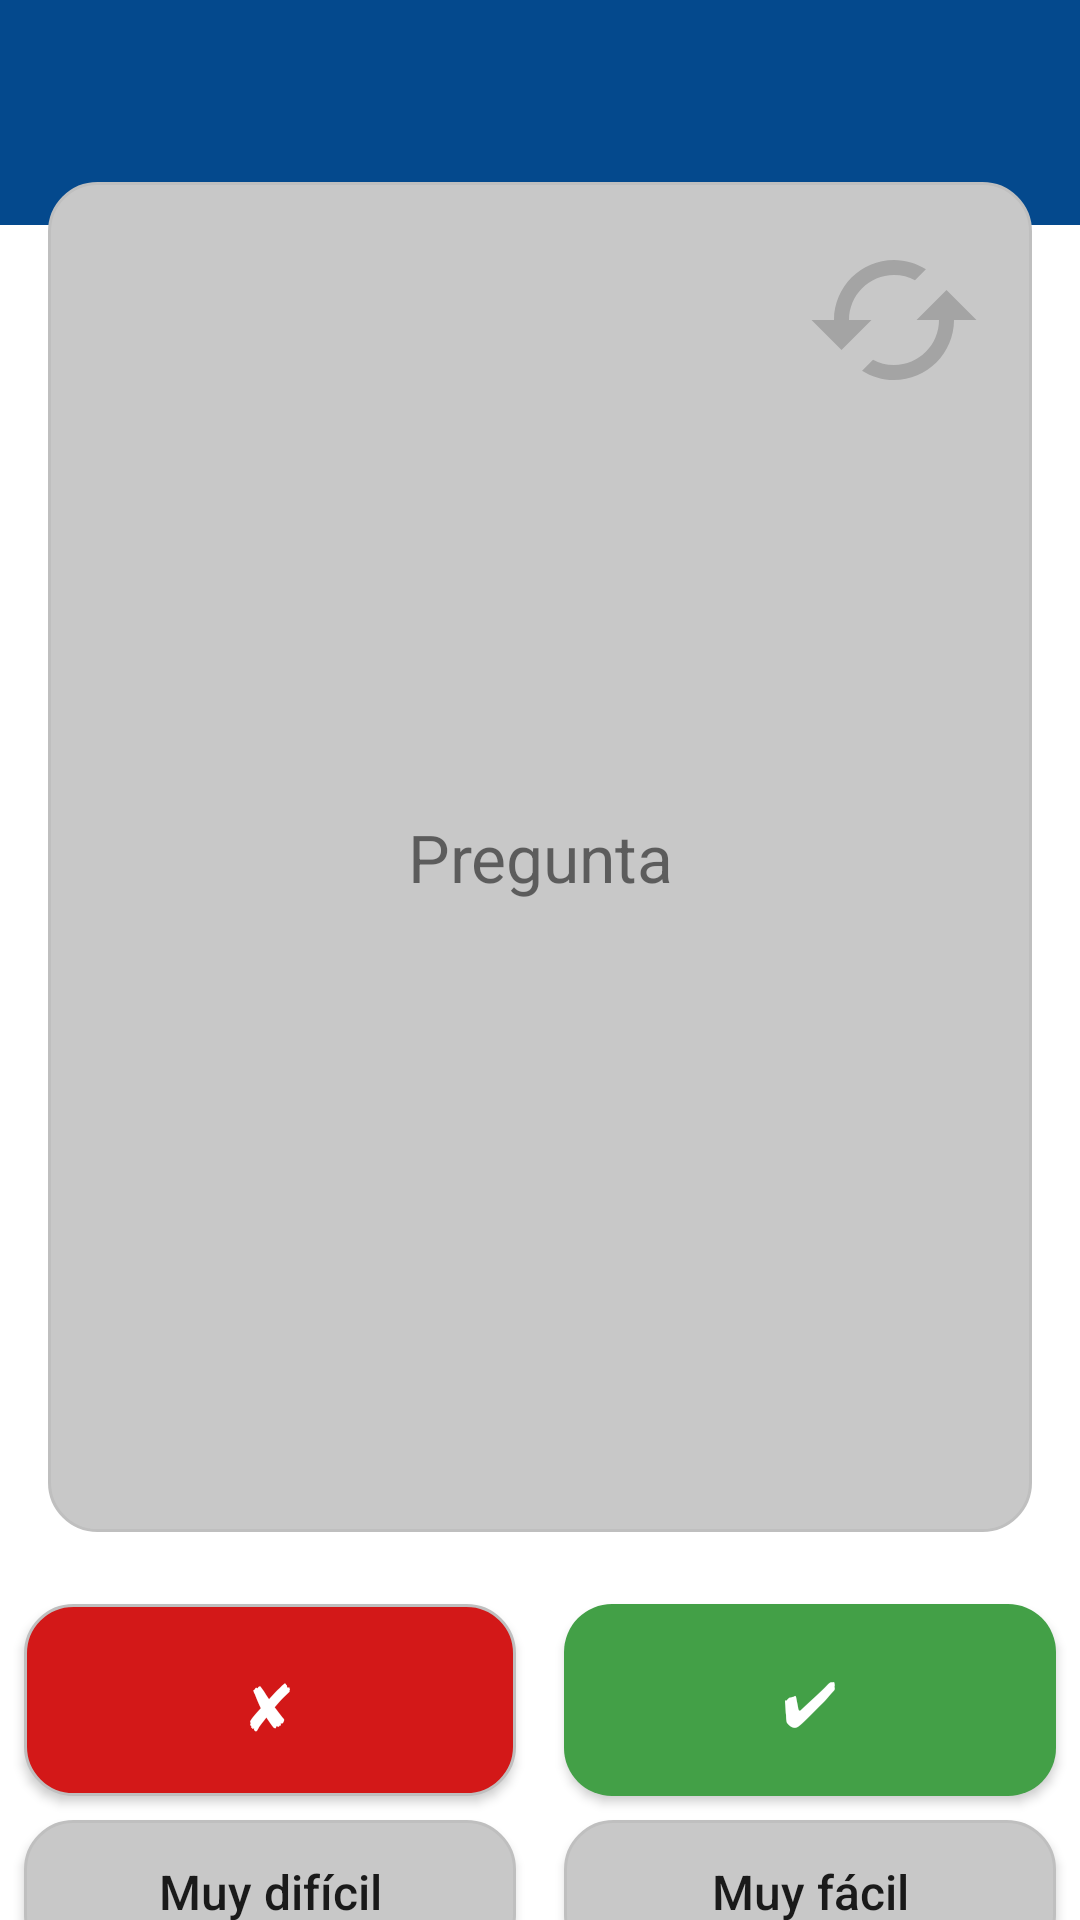

Icon click points for this 1080x1920 phone screenshot, format (x=x, y=y):
cached: (x=894, y=320)
